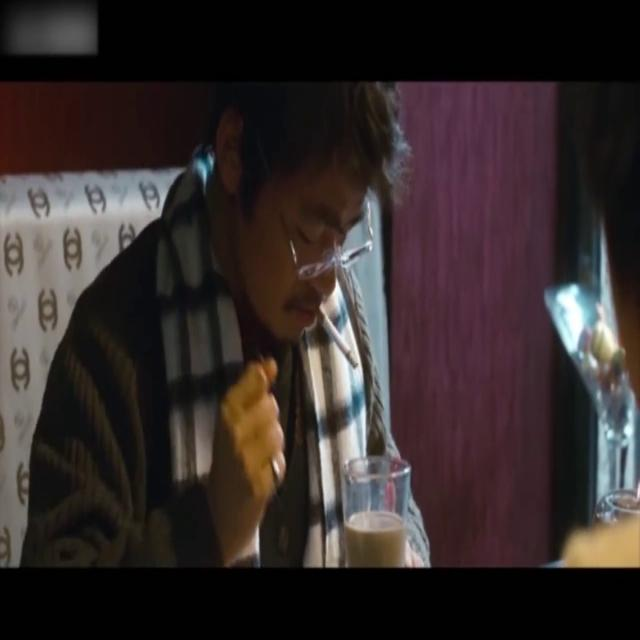smoking: (317, 306, 358, 368)
